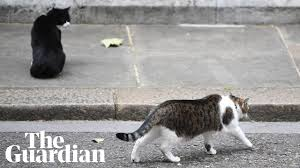cat: (114, 92, 255, 162), (30, 6, 72, 79)
